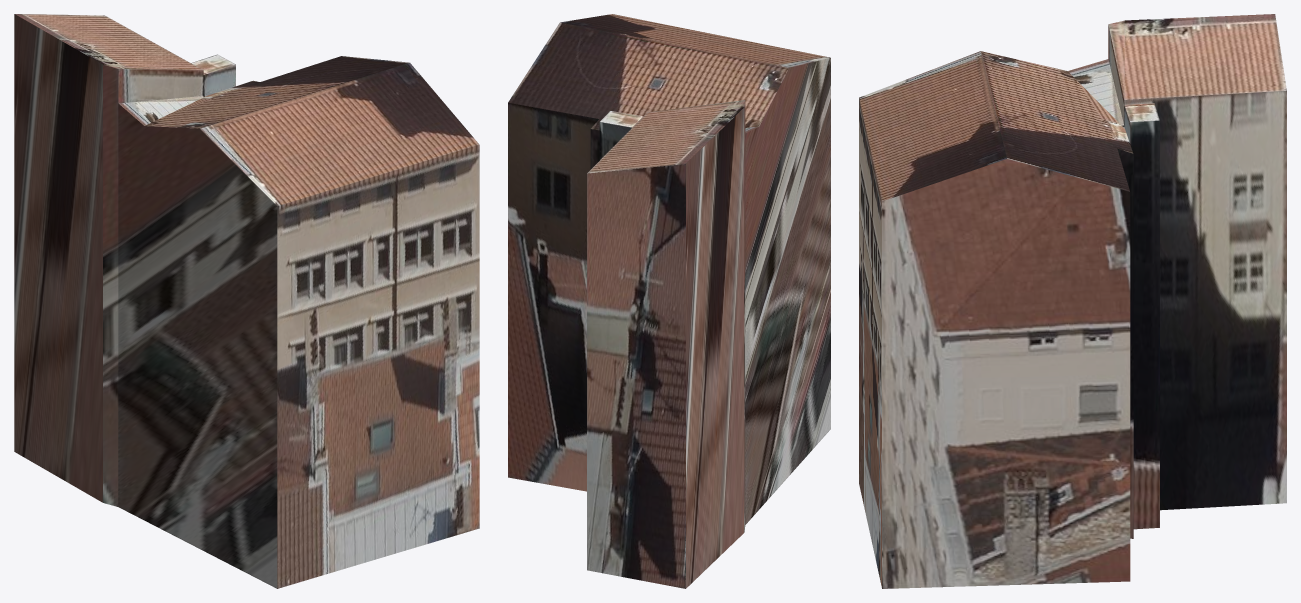
3 renders of one model, left to right at view 1: azimuth 30°, elevation 25°; view 2: azimuth 150°, elevation 25°; view 3: azimuth 270°, elevation 25°, orthographic. The views are drawn at different scales.
Visible parts, largest first — view 1: Z_UP; view 2: Z_UP; view 3: Z_UP.
Boxes of the visible parts, x1,y1,x2,y2 form: Z_UP: (14, 14, 479, 588); Z_UP: (508, 14, 830, 588); Z_UP: (859, 14, 1286, 588).
Bounding box in the file's own units: 12.73 × 19.74 × 17.3.
2 materials, 1 textured.
